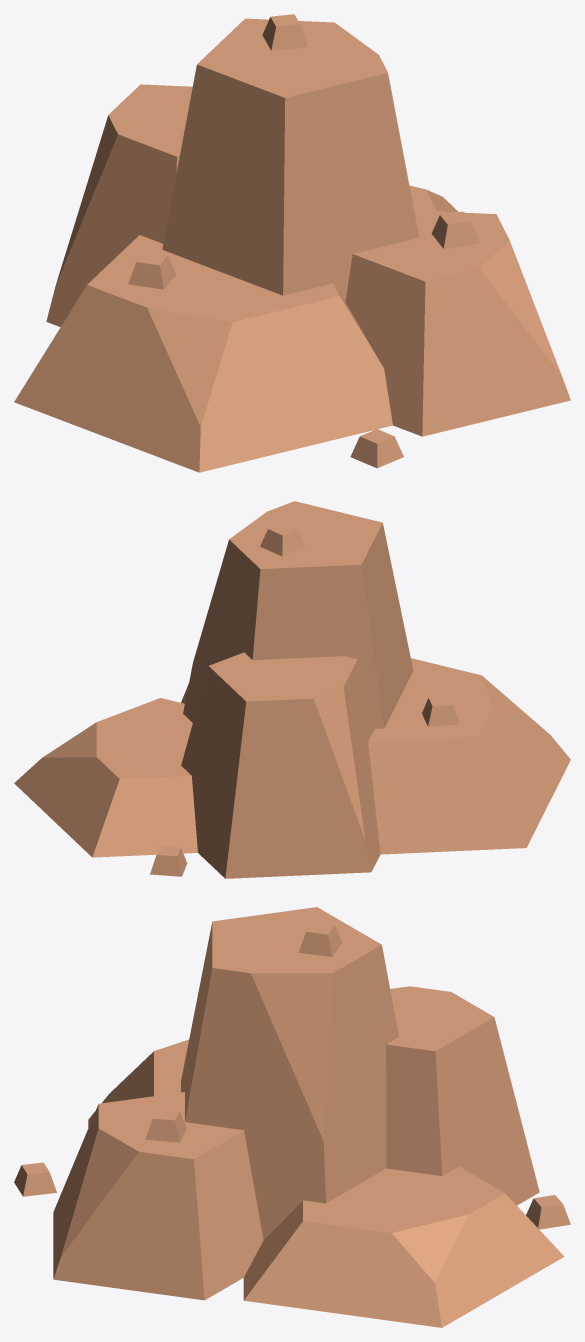
Rendered from rock-sand-b.obj.
3 views of the same model, one above another, from view 1: azimuth 30°, elevation 25°; view 2: azimuth 150°, elevation 25°; view 3: azimuth 270°, elevation 25° (orthographic). The views are drawn at different scales.
Bounding box in the file's own units: 0.7991 × 0.4486 × 0.7895.
